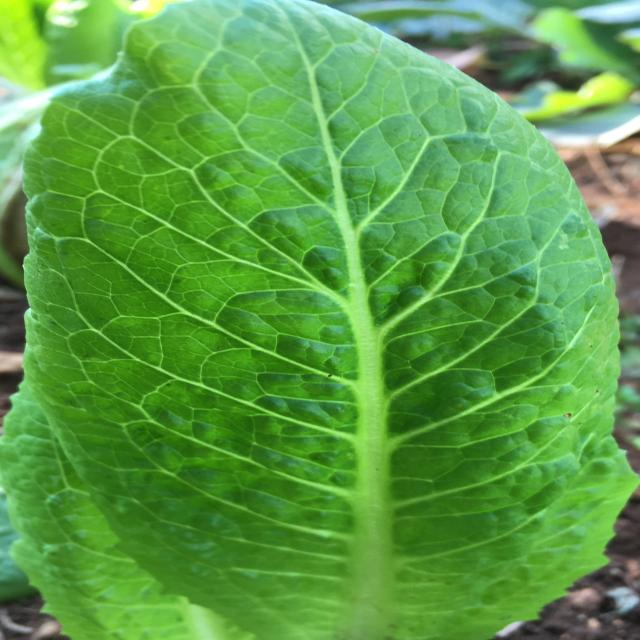Healthy Lettuce: (6, 2, 634, 637)
